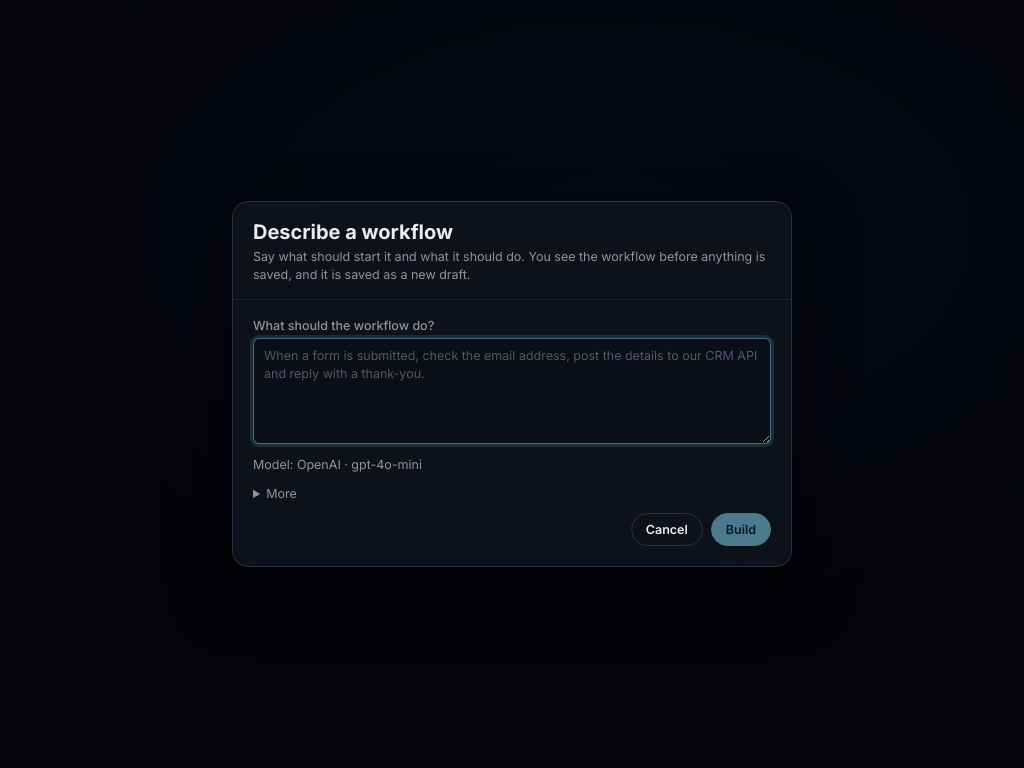
WorkflowBuilderDialog › says so when a model spending limit refuses the build
Type "orders" into the text box labelled "What should the workflow do?".
click(512, 391); type("orders")  # box [253,338,771,444]
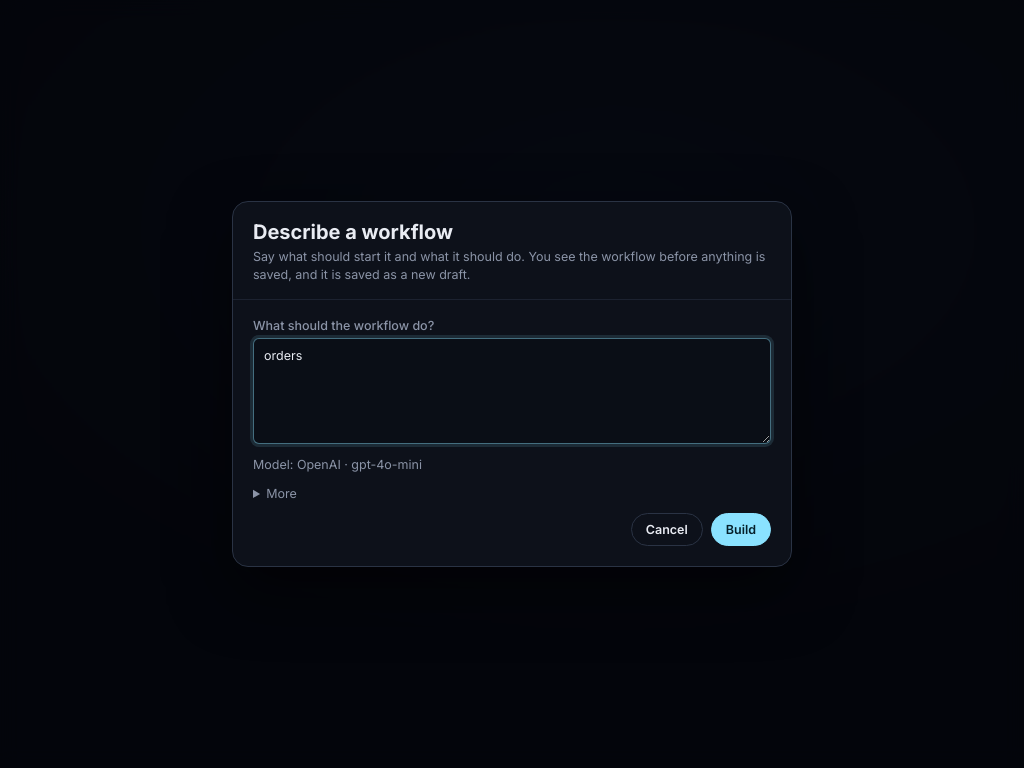
Click the button "Build".
click(741, 530)  # box [711,513,771,546]
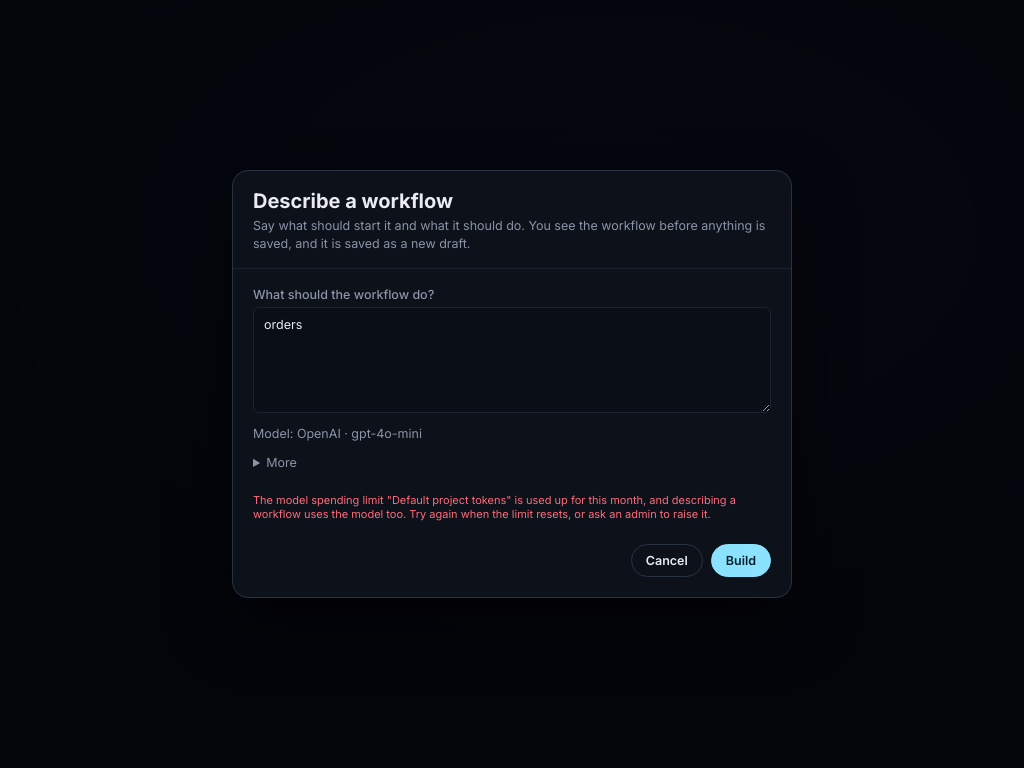
Check: the message shows "The model spending limit \"Default project tokens\" is used up for this month, and describing a workflow uses the model too. Try again when the limit resets, or a", box [253,493,736,521]
